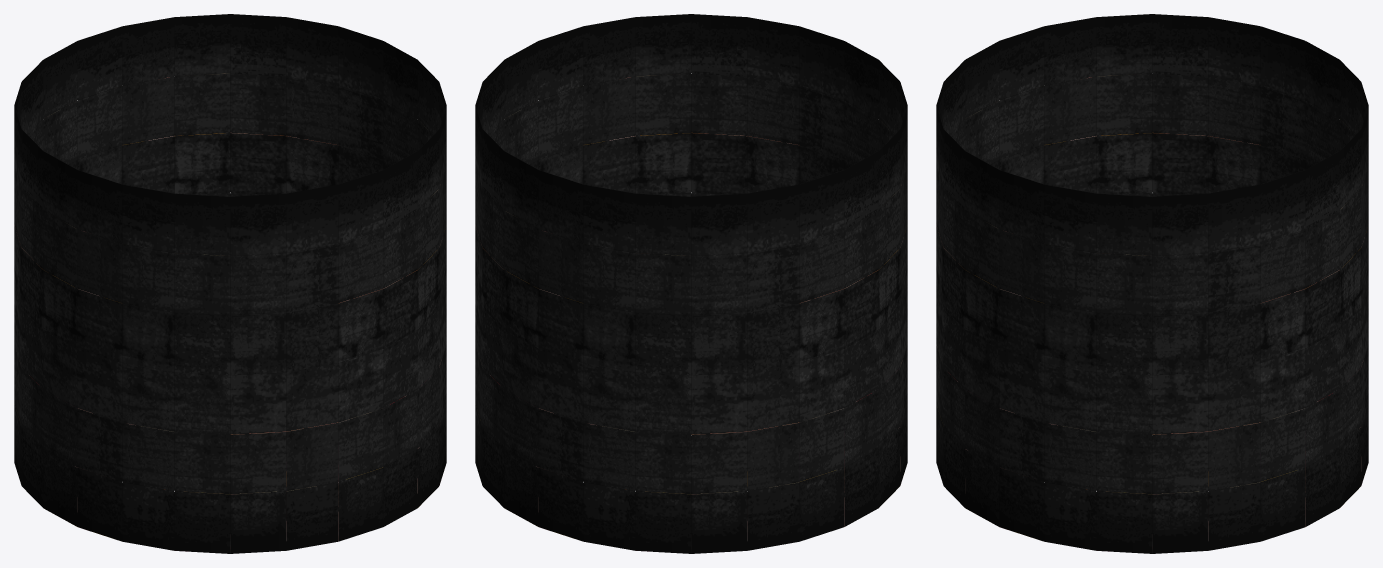
3 views of the same model, side by side, from view 1: azimuth 30°, elevation 25°; view 2: azimuth 150°, elevation 25°; view 3: azimuth 270°, elevation 25° (orthographic).
Parts seen in each view (by area): view 1: T1L5M007_6; view 2: T1L5M007_6; view 3: T1L5M007_6.
Boxes of the visible parts, bbox=[...] form: T1L5M007_6: bbox=[14, 14, 446, 553]; T1L5M007_6: bbox=[475, 14, 907, 553]; T1L5M007_6: bbox=[936, 14, 1368, 553].
Size of the model in its own units: 3.96 by 3.61 by 3.96.
